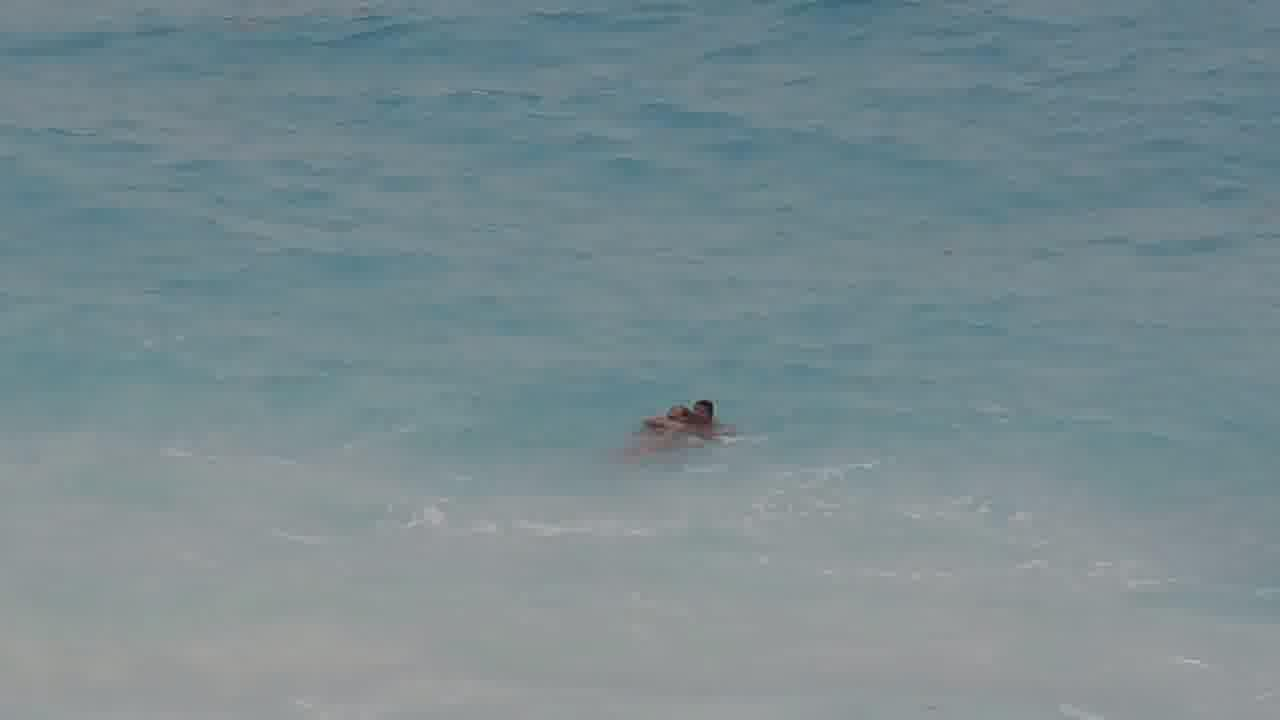swimmer: (692, 389, 720, 435), (661, 393, 680, 430)
